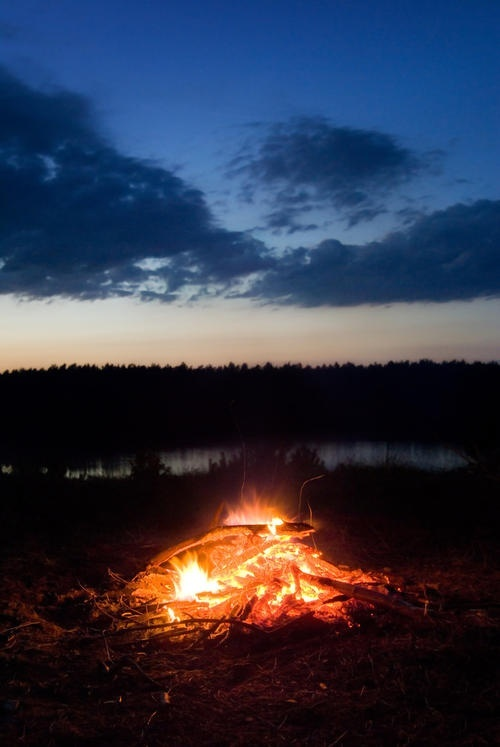fire: (158, 491, 362, 622)
